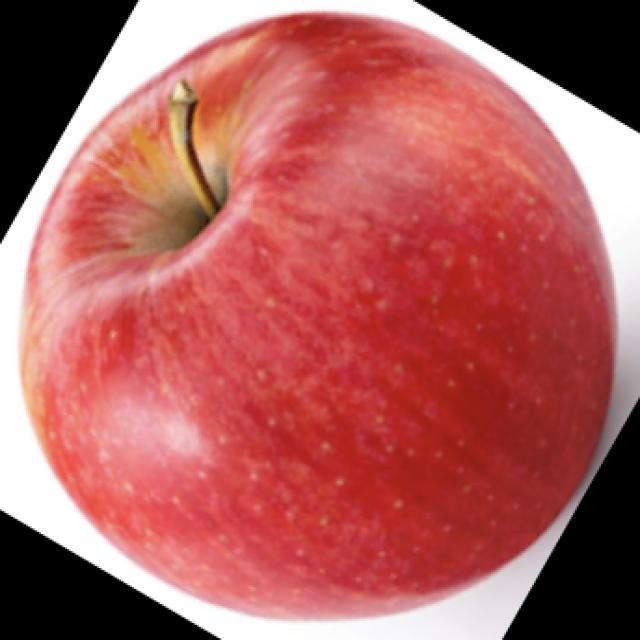Fresh Apple: (35, 27, 610, 590)
